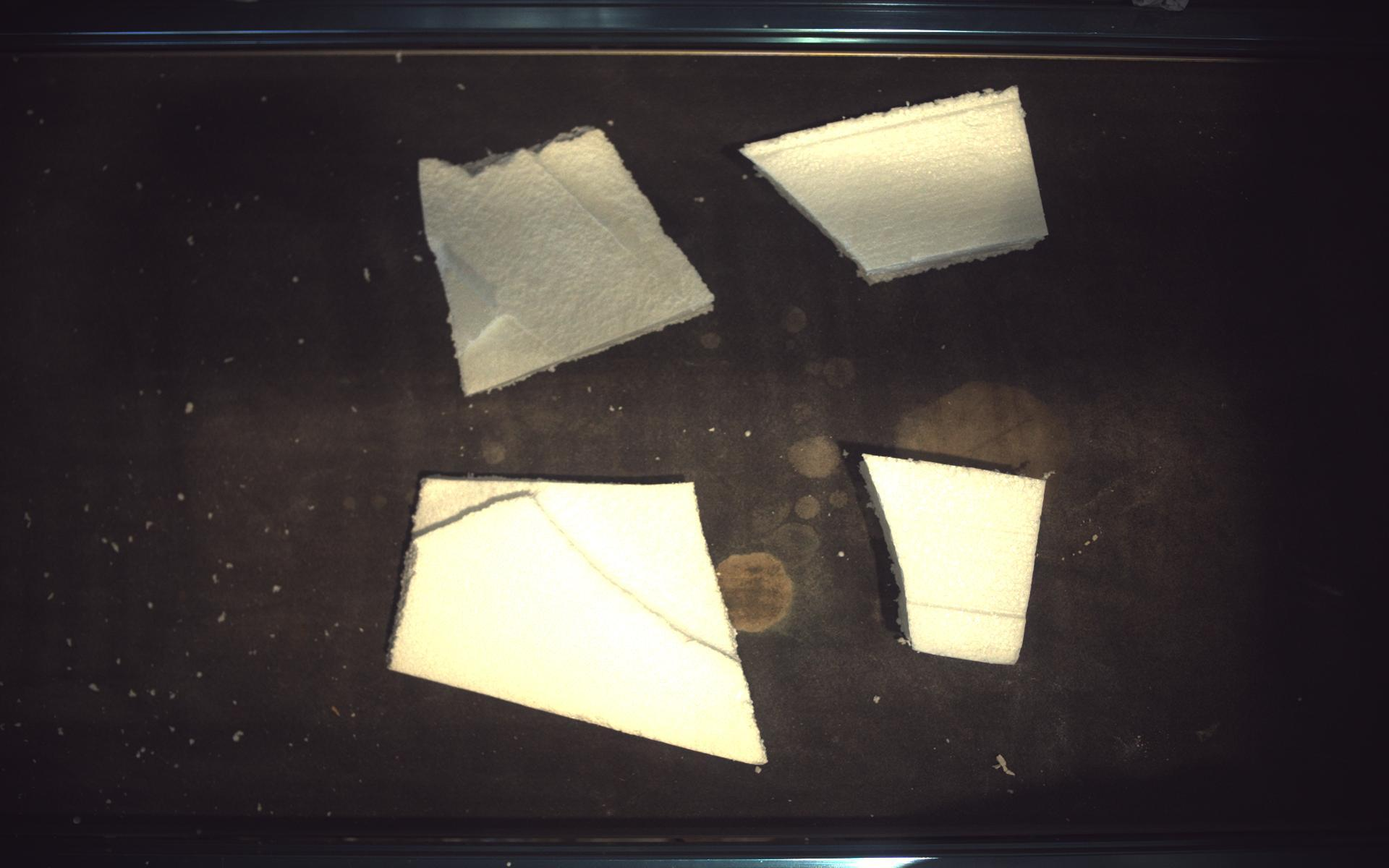foam: (388, 477, 768, 766), (389, 494, 768, 765), (420, 127, 715, 396), (742, 85, 1050, 283), (862, 455, 1048, 665)
